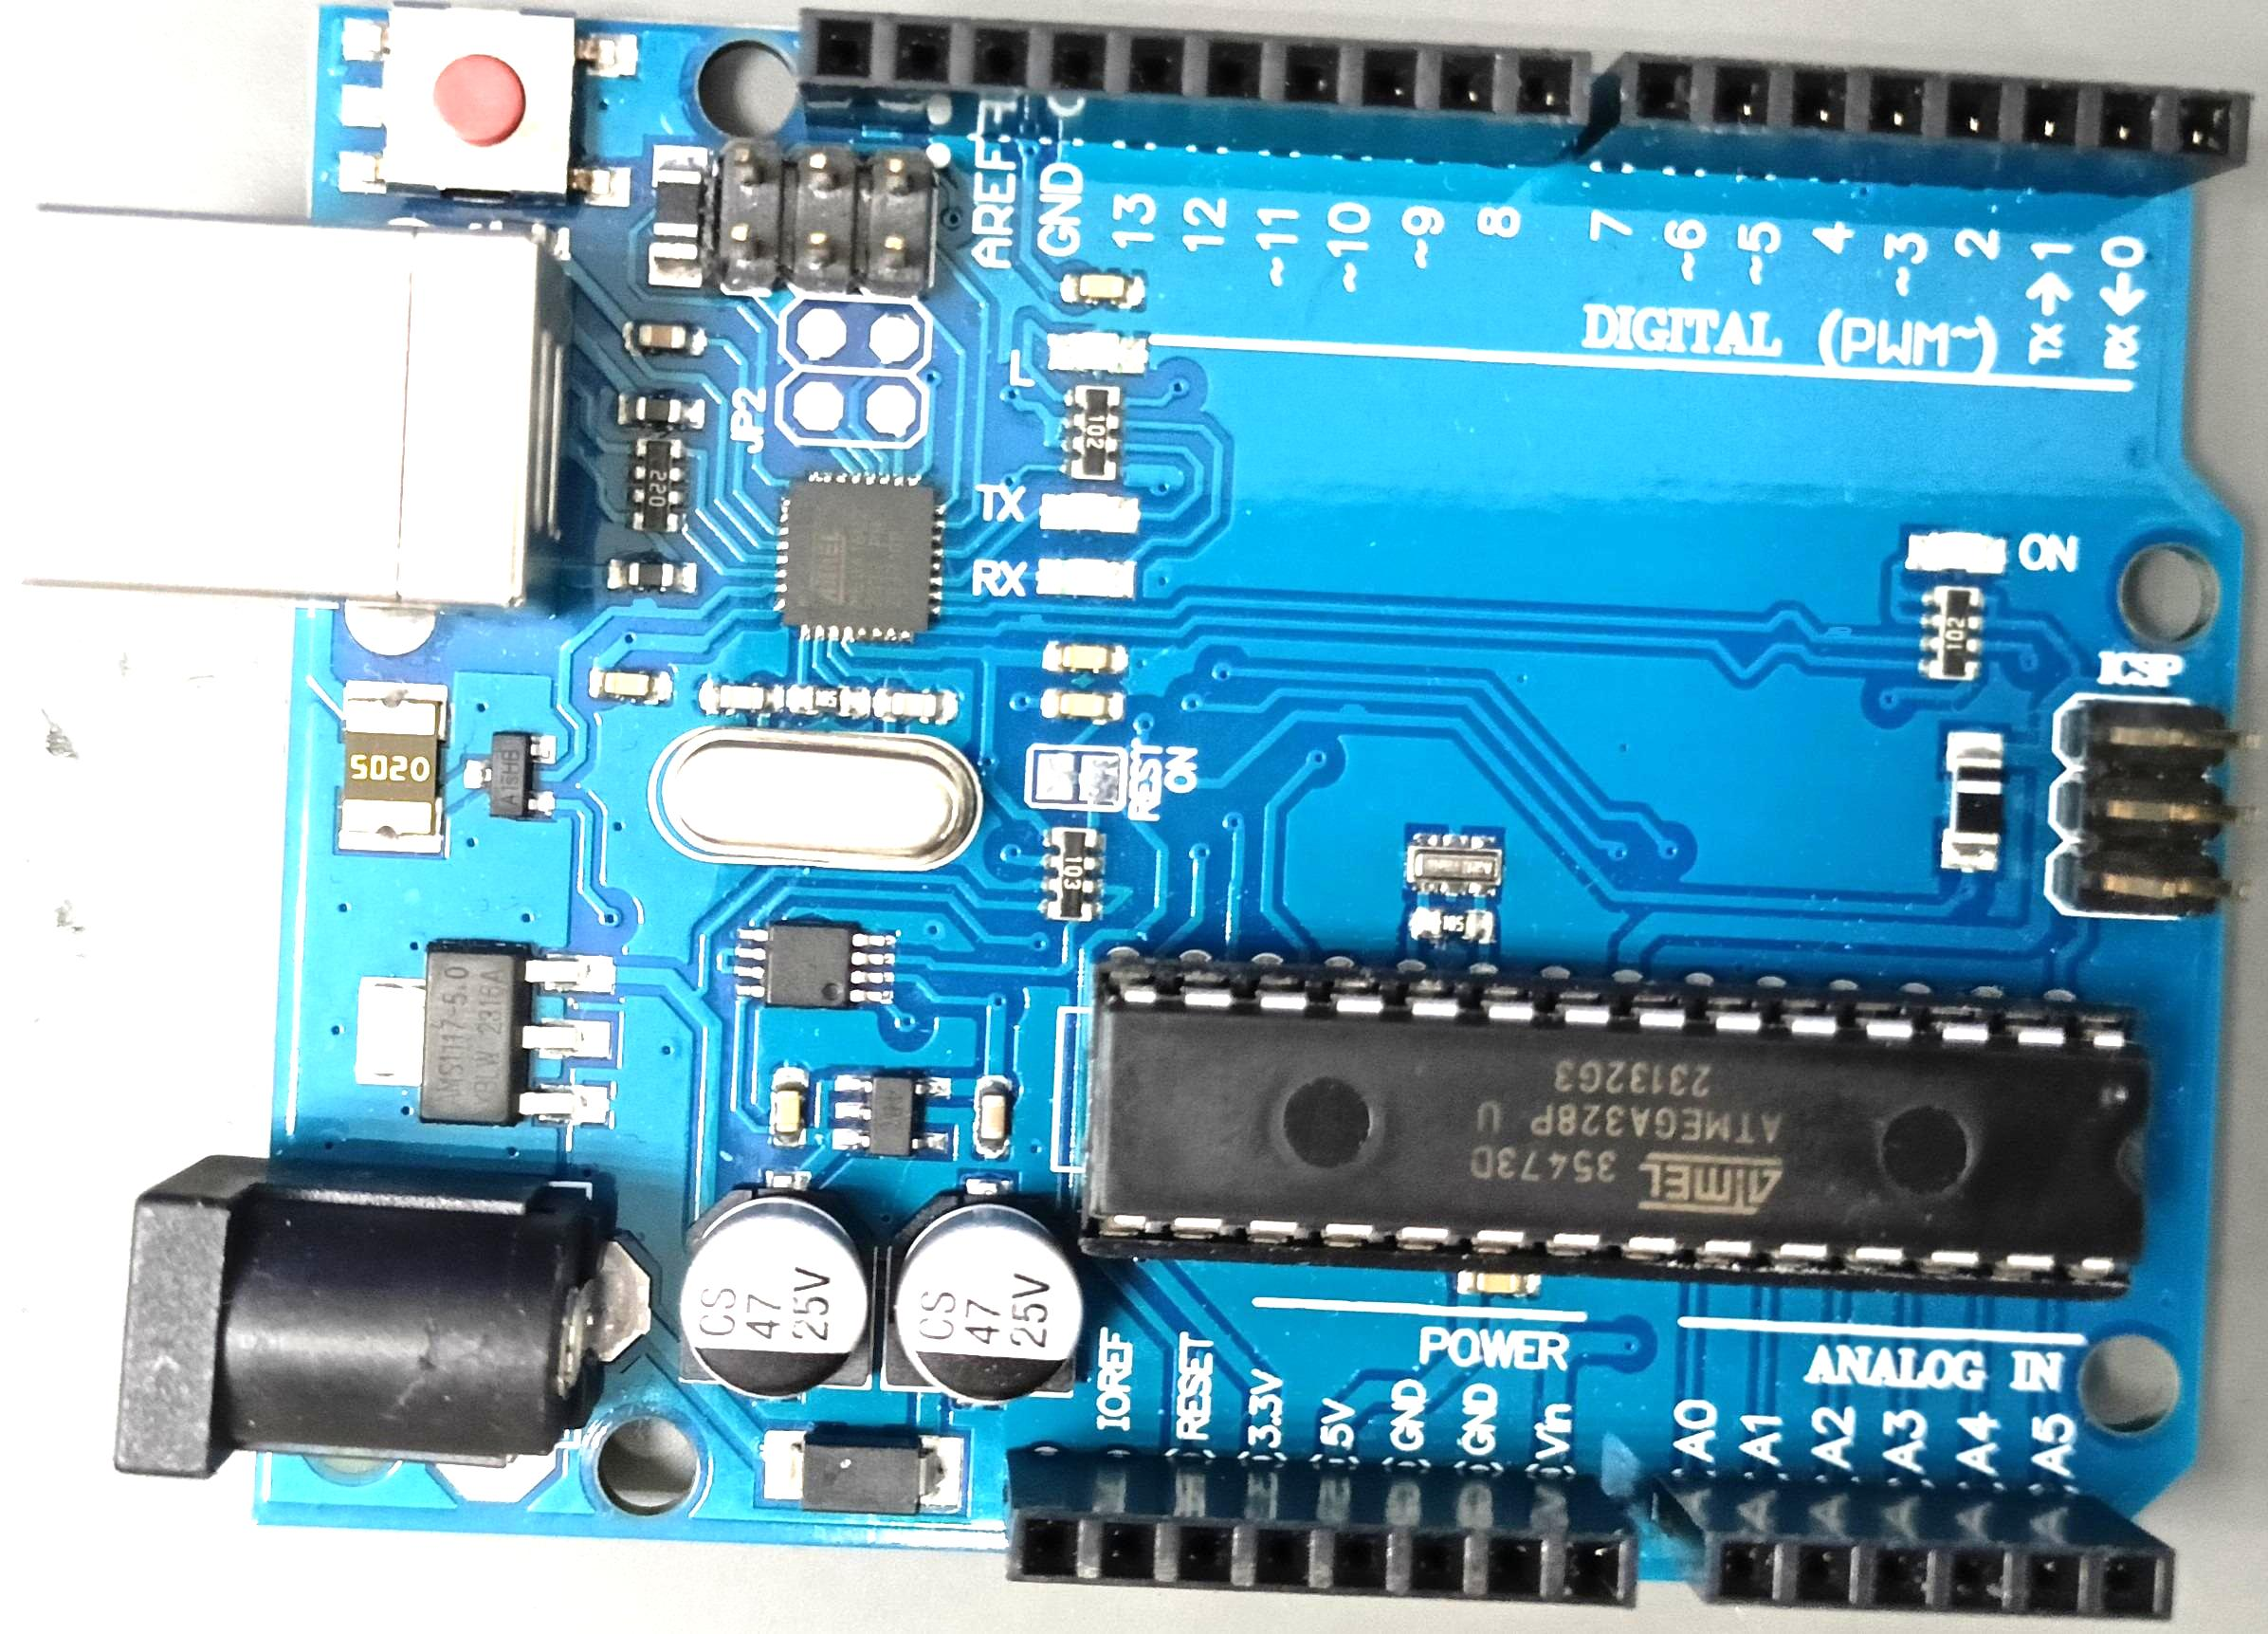ATmega328 chip: (1072, 954, 2150, 1303)
Arduino board: (7, 2, 2261, 1620)
USB: (9, 204, 572, 622)
capacitor: (886, 1192, 1086, 1407), (678, 1187, 877, 1400)
pins: (796, 7, 1595, 171), (1000, 1447, 1632, 1609), (1574, 49, 2252, 199), (1648, 1474, 2176, 1620)
resistor: (1042, 828, 1101, 926), (1925, 585, 1981, 683), (1065, 382, 1118, 486), (630, 435, 681, 537)
spur: (1338, 701, 1368, 717), (629, 595, 659, 611), (1824, 625, 1854, 637), (1018, 613, 1044, 623)
